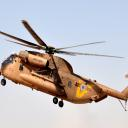helicopter: (1, 17, 128, 114)
